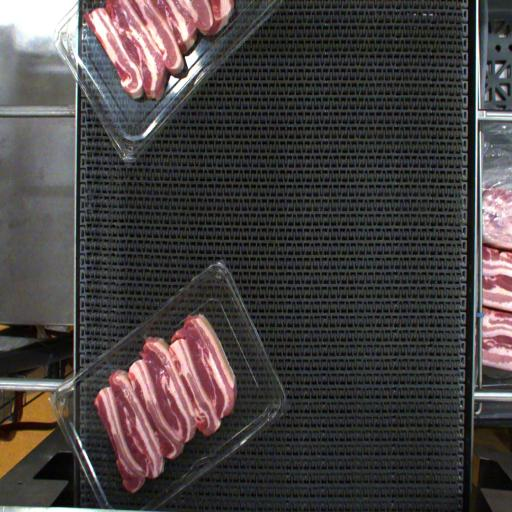packaging-error: (141, 331, 151, 341)
